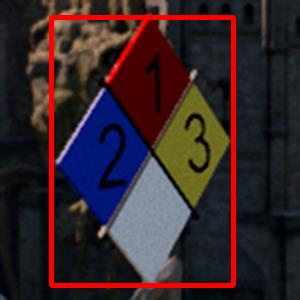nfpa: (51, 17, 233, 285)
